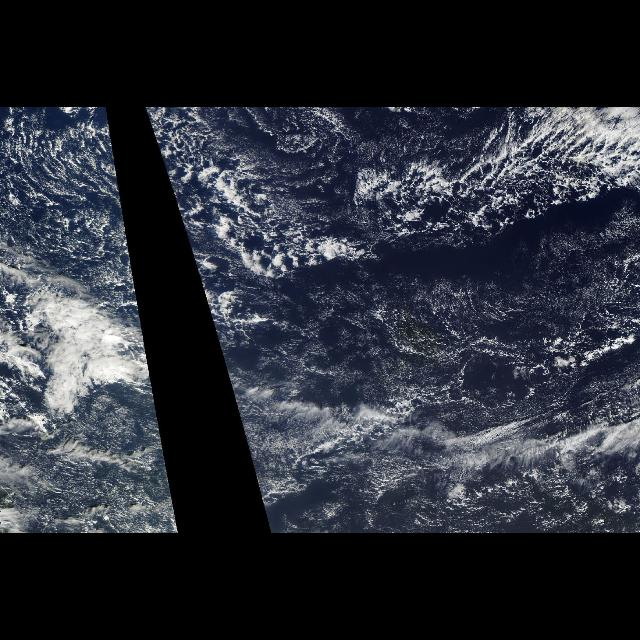Fish: (172, 126, 620, 274)
Gravel: (145, 108, 640, 308), (0, 108, 142, 308)
Sugar: (264, 275, 632, 483)
